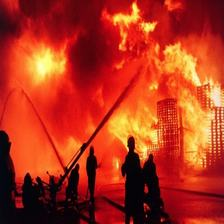fire: (100, 5, 217, 102), (3, 19, 99, 99), (177, 100, 216, 176), (109, 107, 172, 148)
